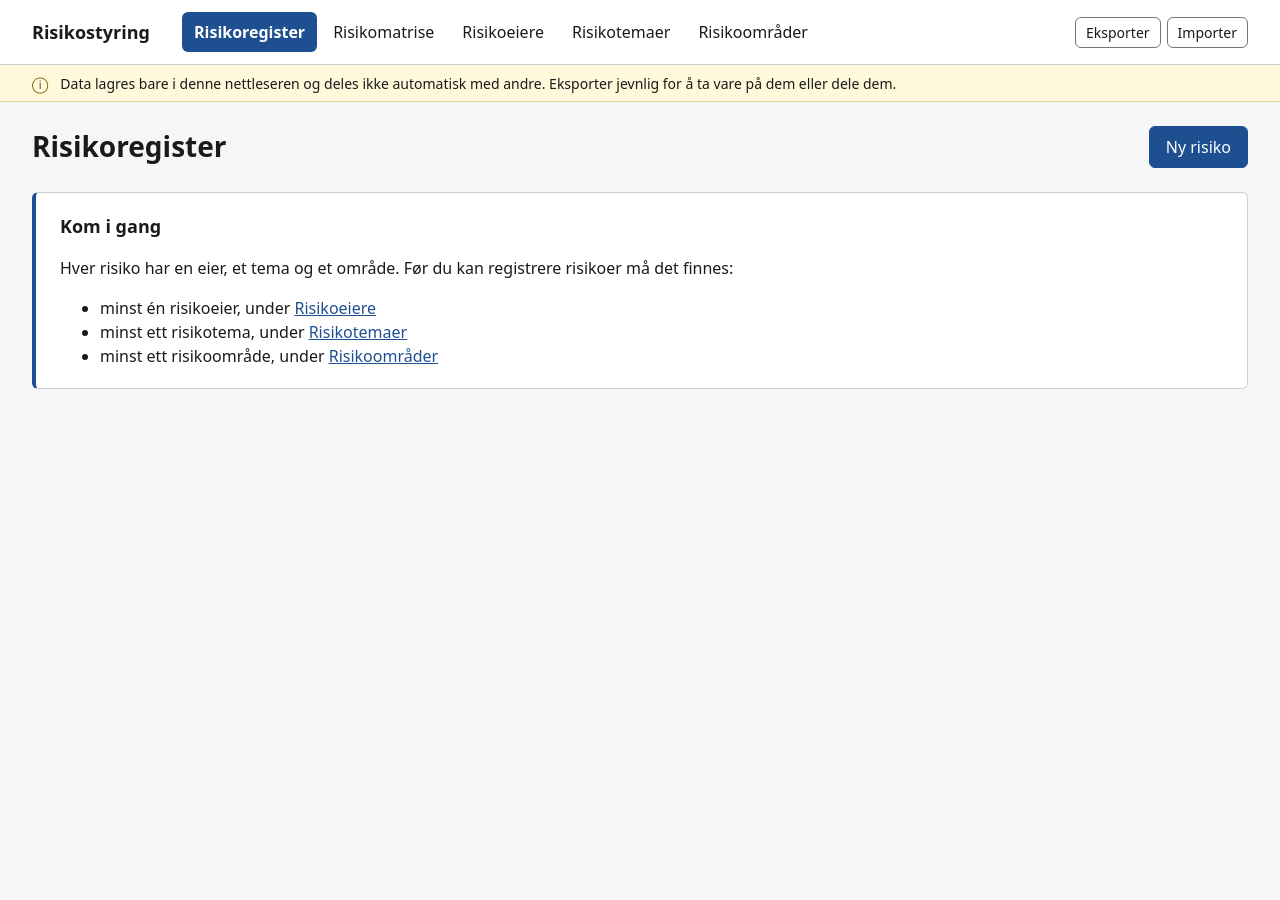
Scenario: app-skall › bytter side ved klikk i menyen og markerer gjeldende side
Click the link "Risikomatrise": (384, 32) [333,21,434,43]
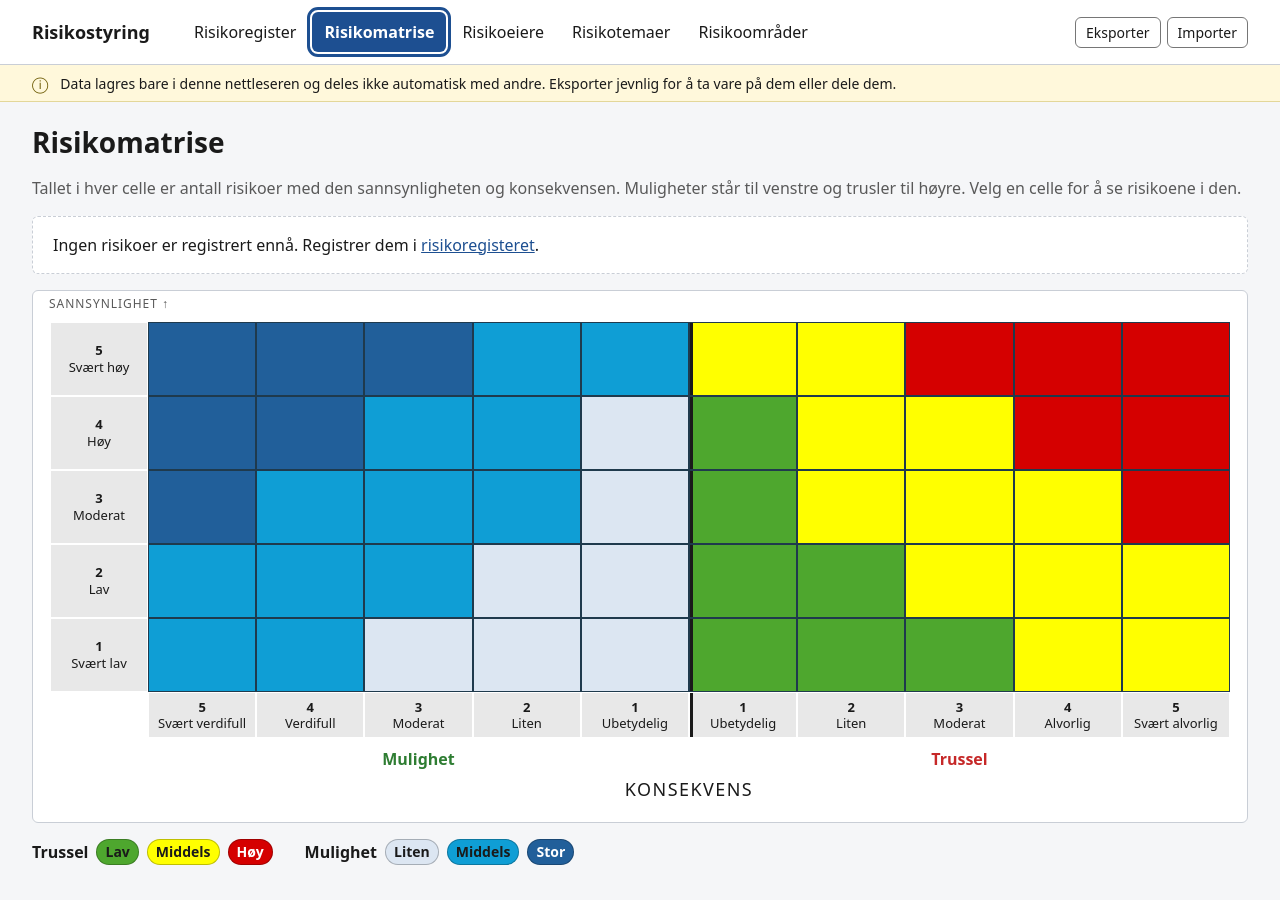
Expected: the heading "Risikomatrise" is shown, [32,123,224,161]
